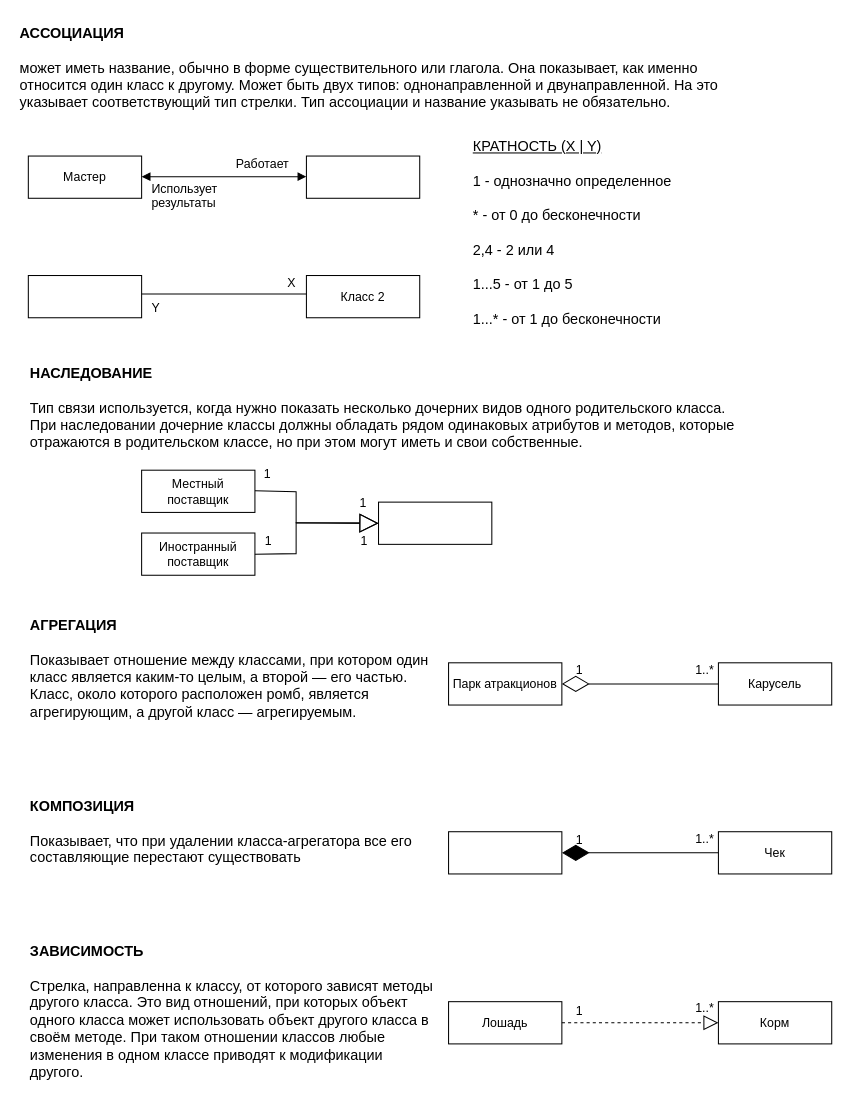
The diagram is 850 pixels wide and 1098 high, and some of its shapes have lost their labels. Each missing label, with the centre of its shape:
Заказ: the point at 505,852
Класс 1: the point at 84,296
Мастерская: the point at 362,176
Поставщик: the point at 434,522
